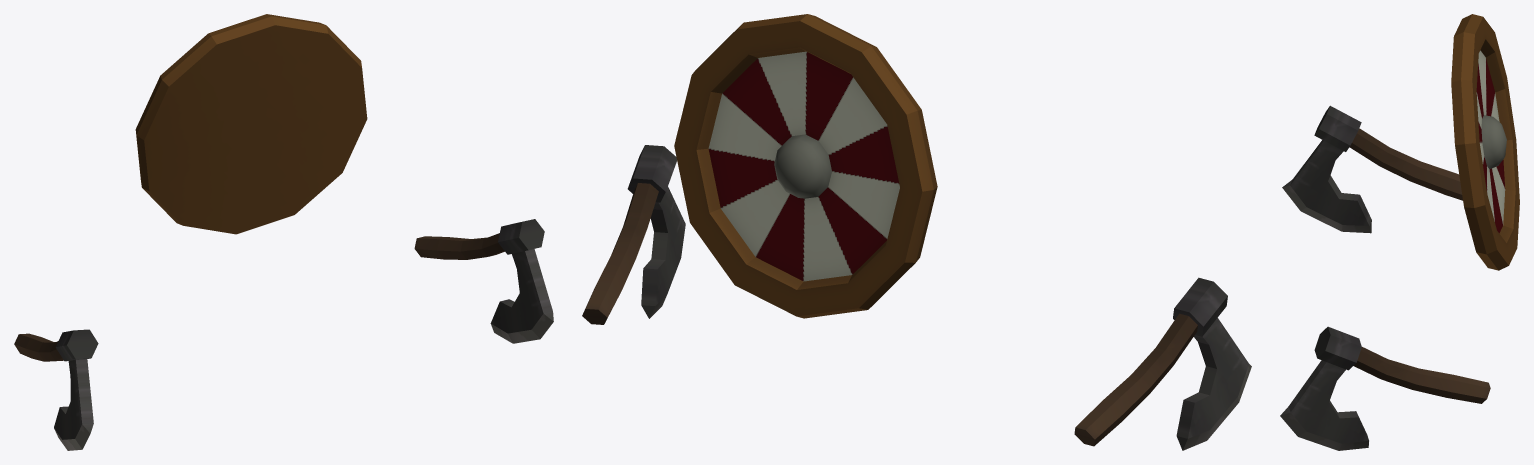
File: ARMAS.fbx
The picture shows the model from 3 angles, left to right: view 1: azimuth 30°, elevation 25°; view 2: azimuth 150°, elevation 25°; view 3: azimuth 270°, elevation 25°; orthographic projection. The views are drawn at different scales.
Visible parts, largest first — view 1: personaje.002, Plane, Plane.001; view 2: personaje.002, Plane.001, Plane; view 3: personaje.002, Plane, Plane.001.
Boxes of the visible parts, x1,y1,x2,y2 form: personaje.002: [135, 14, 367, 234]; Plane: [414, 219, 553, 343]; Plane.001: [14, 329, 98, 450]; personaje.002: [674, 14, 937, 318]; Plane.001: [1074, 277, 1251, 450]; Plane: [582, 145, 685, 324]; personaje.002: [1451, 14, 1519, 270]; Plane: [1280, 326, 1490, 450]; Plane.001: [1282, 105, 1462, 233].
Bounding box in the file's own units: 447 × 291 × 192.
